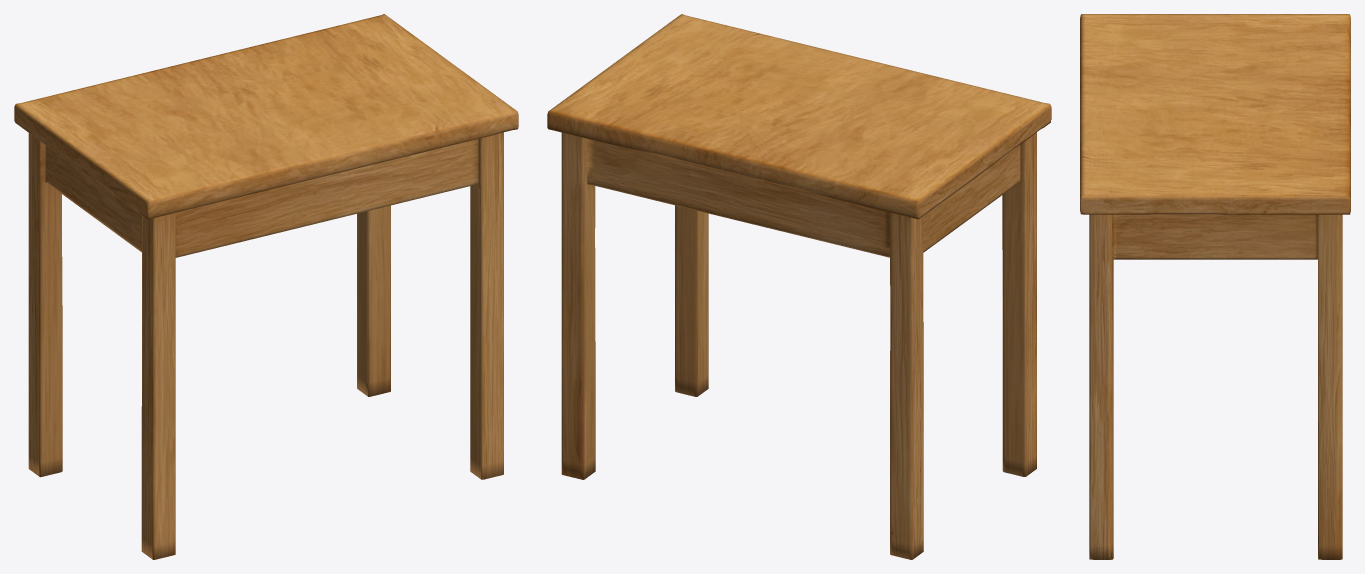
Rendered from table.glb.
3 renders of one model, left to right at view 1: azimuth 30°, elevation 25°; view 2: azimuth 150°, elevation 25°; view 3: azimuth 270°, elevation 25°, orthographic.
Visible parts, largest first — view 1: tripo_node_d3b59bc3-ada7-43c8-b88d-eb162835edf7; view 2: tripo_node_d3b59bc3-ada7-43c8-b88d-eb162835edf7; view 3: tripo_node_d3b59bc3-ada7-43c8-b88d-eb162835edf7.
Boxes of the visible parts, left/top/right/bottom form: tripo_node_d3b59bc3-ada7-43c8-b88d-eb162835edf7: left=14, top=14, right=518, bottom=559; tripo_node_d3b59bc3-ada7-43c8-b88d-eb162835edf7: left=547, top=14, right=1051, bottom=559; tripo_node_d3b59bc3-ada7-43c8-b88d-eb162835edf7: left=1080, top=14, right=1350, bottom=559.
Size of the model in its own units: 0.8 by 0.75 by 0.5.
1 material, 1 textured.
